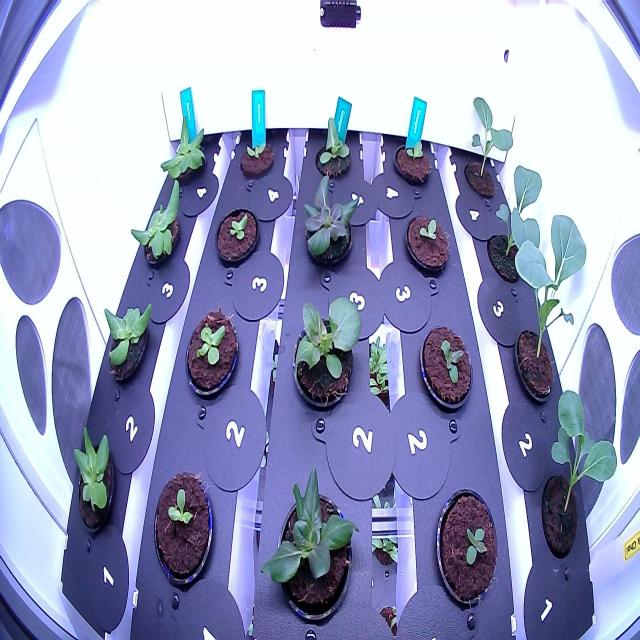germination: (400, 208, 452, 282), (392, 130, 438, 198)
young: (260, 453, 362, 629), (288, 286, 366, 418), (432, 481, 504, 620), (147, 464, 216, 592), (66, 413, 122, 541), (177, 296, 241, 402), (418, 313, 480, 422), (300, 175, 363, 278), (126, 176, 187, 278), (96, 294, 158, 390), (157, 108, 210, 189), (307, 109, 358, 186), (213, 197, 261, 274), (236, 126, 279, 184)
